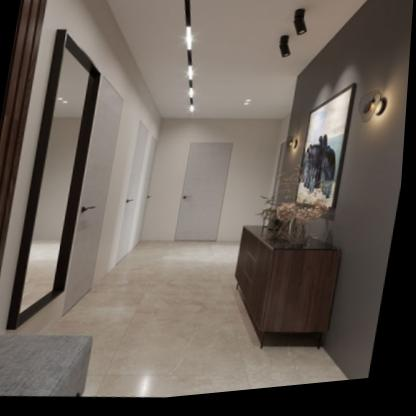Ceramic floor: (41, 244, 353, 401)
